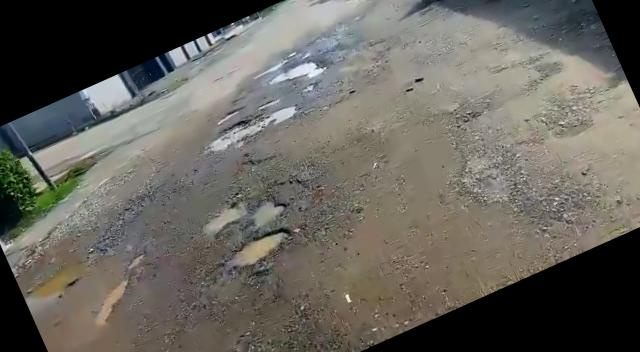pothole: (196, 173, 304, 249), (199, 94, 304, 156), (226, 222, 295, 272), (268, 48, 332, 90), (254, 55, 295, 80), (216, 104, 244, 122), (256, 93, 284, 111)
